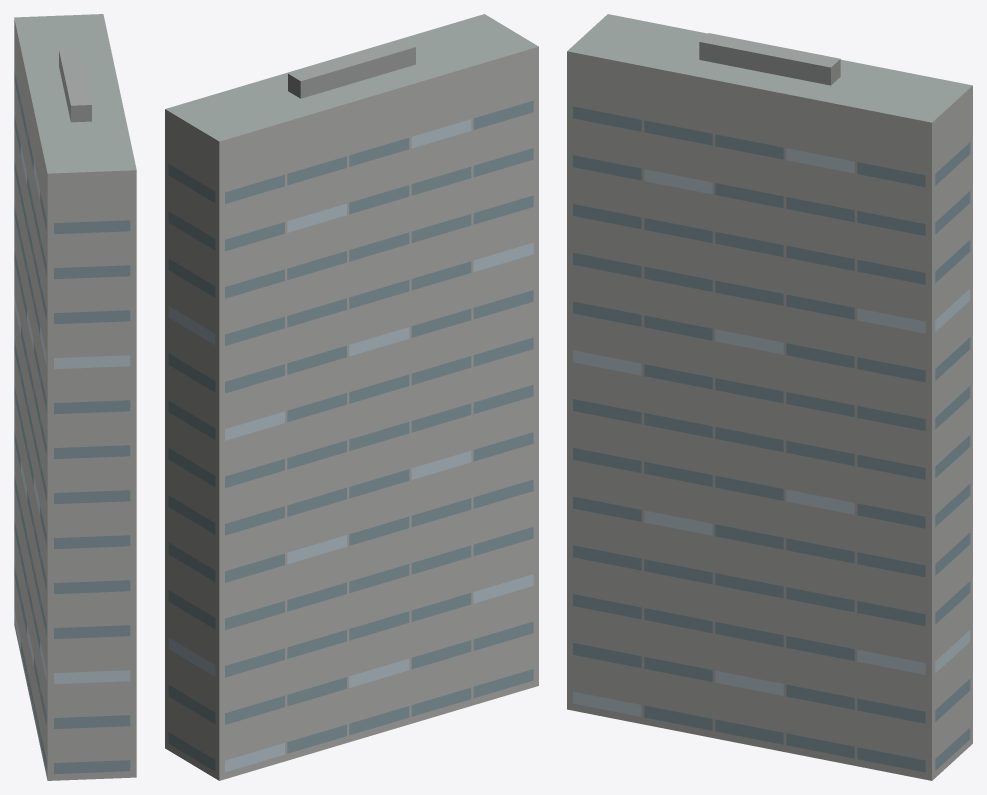
The model's file is fallback-jamsil-ricenz-236.glb.
3 renders of one model, left to right at view 1: azimuth 30°, elevation 25°; view 2: azimuth 150°, elevation 25°; view 3: azimuth 270°, elevation 25°, orthographic. The views are drawn at different scales.
Parts seen in each view (by area): view 1: fallback-jamsil-ricenz-236; view 2: fallback-jamsil-ricenz-236; view 3: fallback-jamsil-ricenz-236.
Part boxes in pixels (bbox=[...]): fallback-jamsil-ricenz-236: bbox=[14, 14, 136, 780]; fallback-jamsil-ricenz-236: bbox=[165, 14, 538, 780]; fallback-jamsil-ricenz-236: bbox=[567, 14, 972, 780].
Bounding box in the file's own units: 31.02 × 90 × 48.95.
